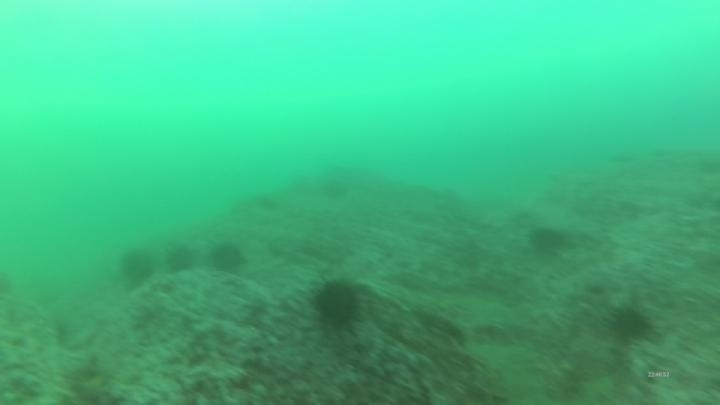echinus: (310, 275, 364, 331), (607, 303, 656, 344), (117, 245, 157, 287), (526, 223, 569, 257), (208, 239, 247, 275), (163, 242, 197, 276), (320, 174, 351, 202)
